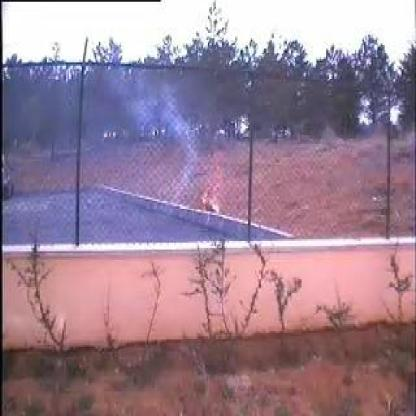-: (78, 73, 200, 236)
